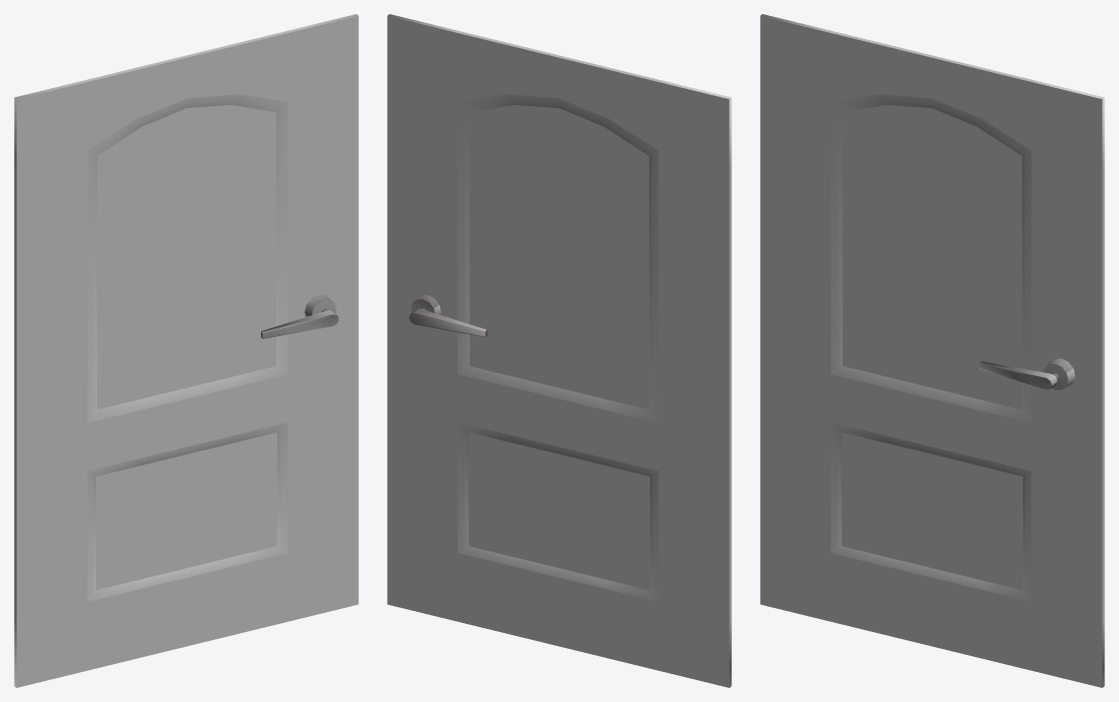
The model's file is Door.fbx.
3 views of the same model, side by side, from view 1: azimuth 30°, elevation 25°; view 2: azimuth 150°, elevation 25°; view 3: azimuth 330°, elevation 25° (orthographic).
Visible parts, largest first — view 1: Door, Manija_In; view 2: Door, Manija_In_2; view 3: Door, Manija_In, Base_Manija_In.
Part boxes in pixels (x1,y1,x2,y2): Door: [14, 14, 358, 687]; Manija_In: [261, 309, 338, 338]; Door: [387, 14, 731, 687]; Manija_In_2: [409, 308, 487, 337]; Door: [760, 14, 1104, 687]; Manija_In: [979, 361, 1059, 389]; Base_Manija_In: [1043, 358, 1075, 390].
Bounding box in the file's own units: 122 × 201 × 19.21.
